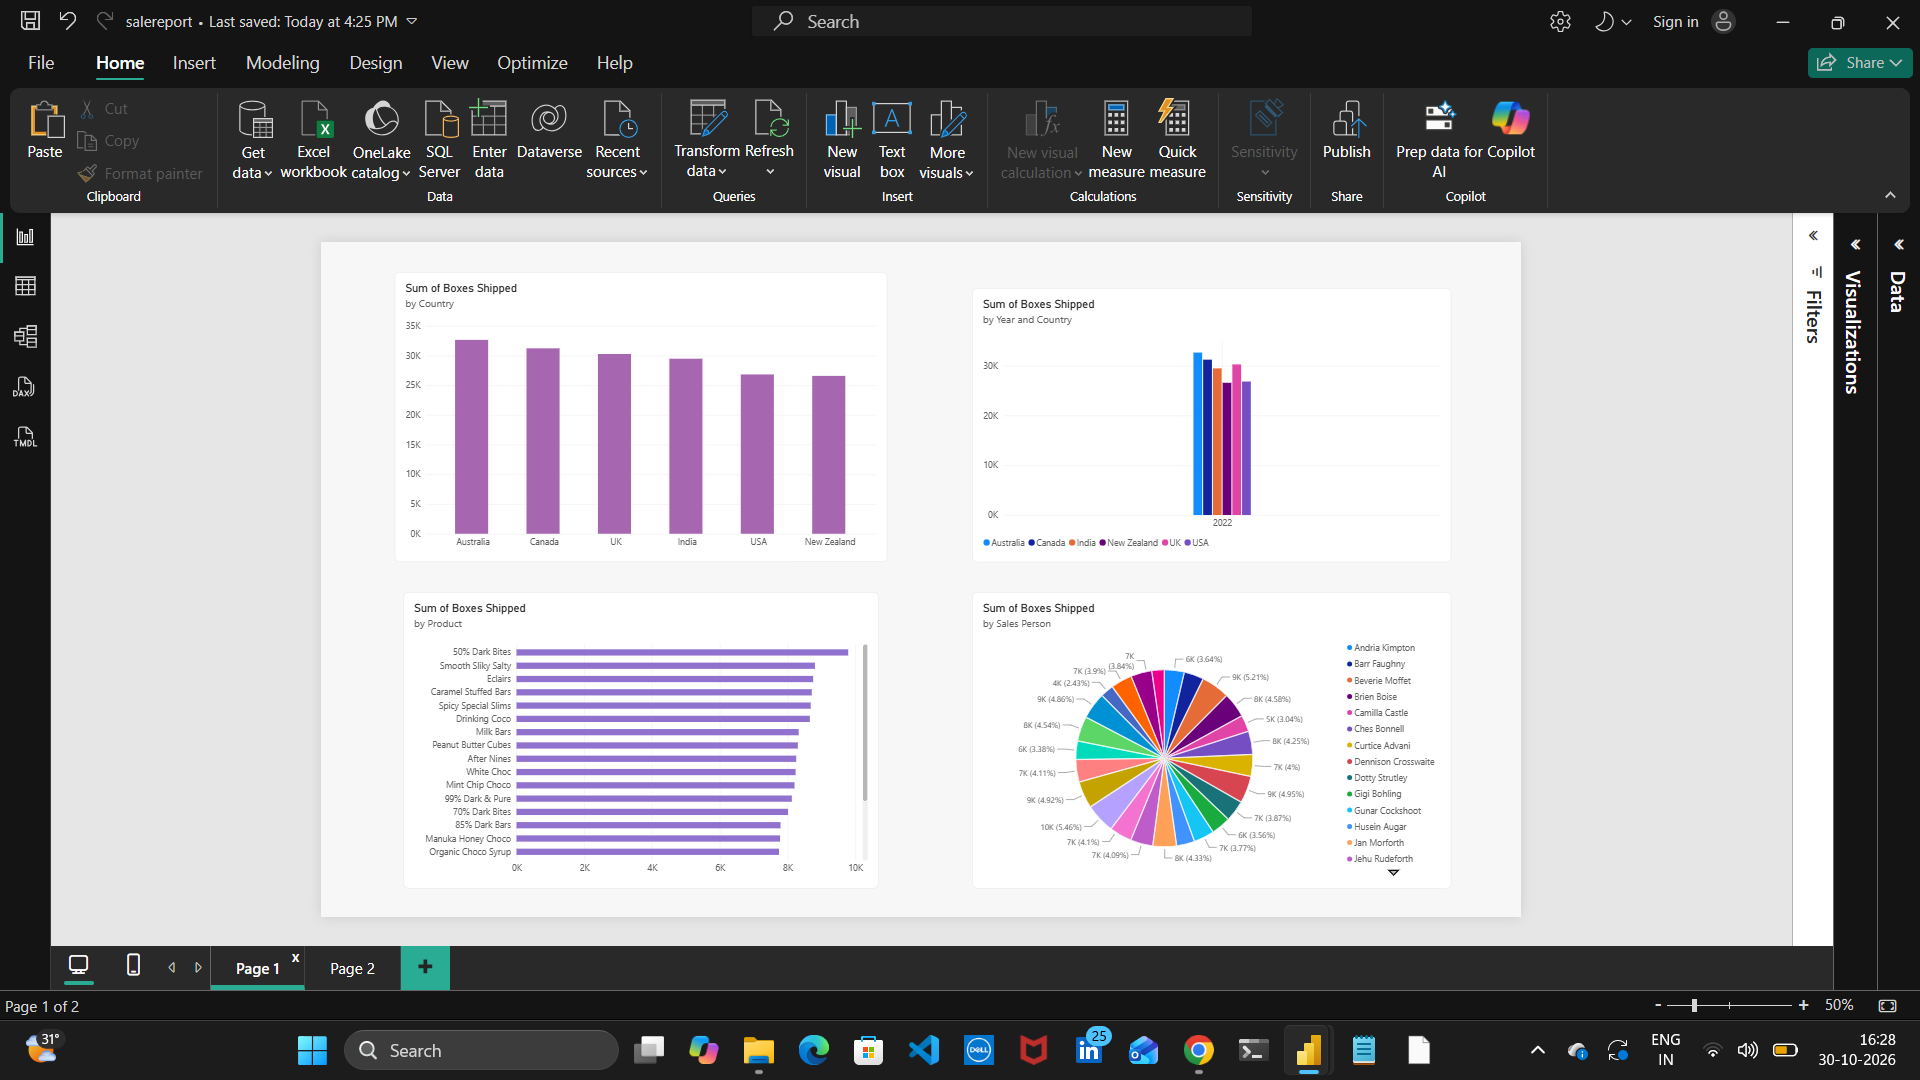

Layout of this report page (visuals, bound fields, positions):
{"tool":"powerbi","page":{"name":"Page 1","canvas":[1920,1080],"ordinal":0},"visuals":[{"type":"columnChart","fields":{"Category":["data.Country"],"Y":["Sum(data.Boxes Shipped)"]},"box":[118,48,788,464],"z":0},{"type":"barChart","fields":{"Category":["data.Product"],"Y":["Sum(data.Boxes Shipped)"]},"box":[132,560,760,474],"z":1000},{"type":"pieChart","fields":{"Series":["data.Sales Person"],"Y":["Sum(data.Boxes Shipped)"]},"box":[1042,560,766,474],"z":2000},{"type":"clusteredColumnChart","fields":{"Category":["data.Date.Variation.Date Hierarchy.Year","data.Date.Variation.Date Hierarchy.Quarter","data.Date.Variation.Date Hierarchy.Month","data.Date.Variation.Date Hierarchy.Day"],"Series":["data.Country"],"Y":["Sum(data.Boxes Shipped)"]},"box":[1042,74,766,438],"z":3000}]}

Visuals, with their boxes on the page's 1920x1080 design canvas (x1, y1, x2, y2). These are canvas units, not pixel positions in the 1920x1080 screenshot, which may show the page scaled, cropped or inside an application window:
columnChart - data.Country x Sum(data.Boxes Shipped): 118,48,906,512
barChart - data.Product x Sum(data.Boxes Shipped): 132,560,892,1034
pieChart - data.Sales Person x Sum(data.Boxes Shipped): 1042,560,1808,1034
clusteredColumnChart - data.Date.Variation.Date Hierarchy.Year x data.Date.Variation.Date Hierarchy.Quarter: 1042,74,1808,512
